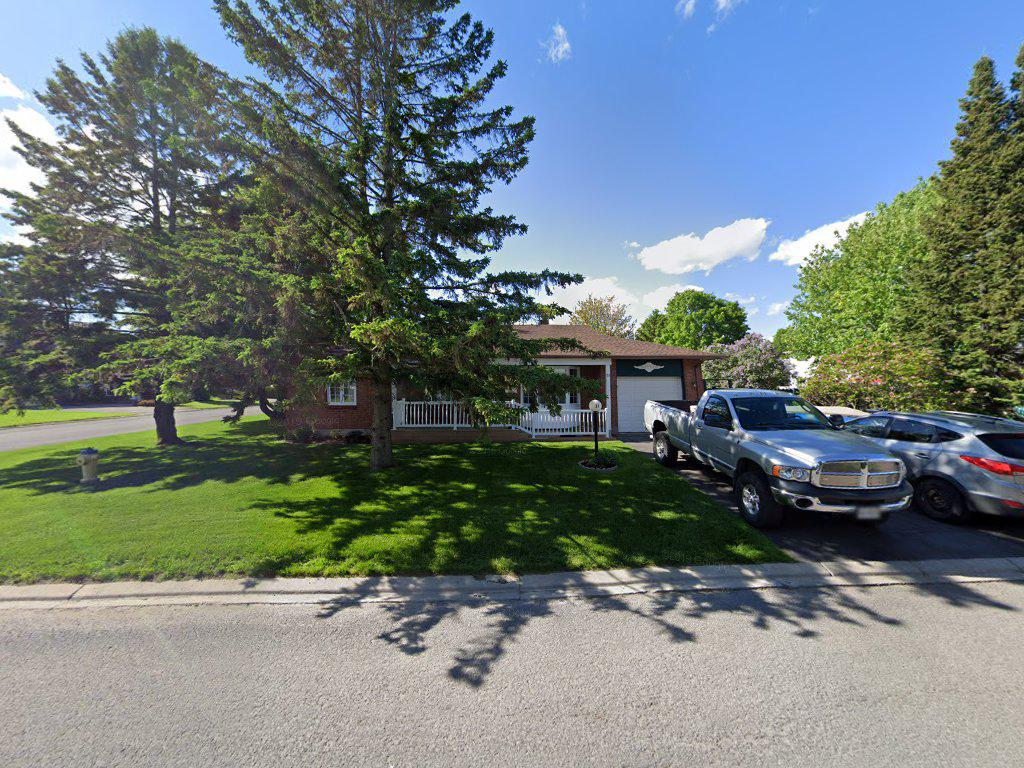trunk: (359, 364, 402, 468), (150, 393, 183, 450)
